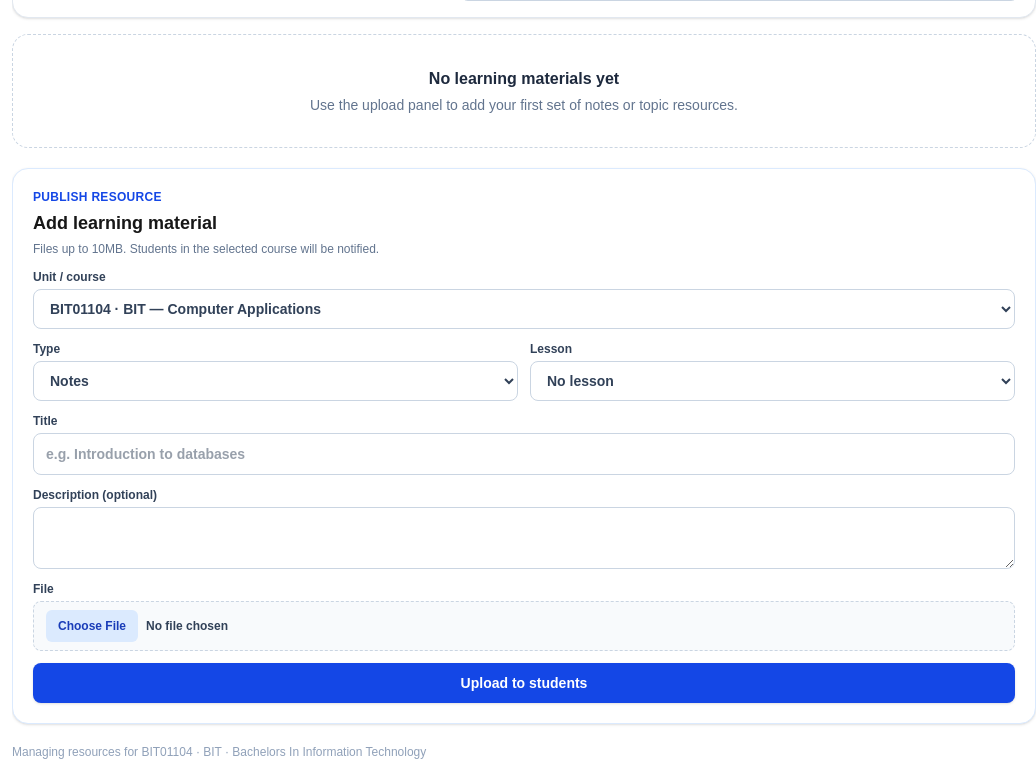
it: lecturer materials management page › shows upload validation errors as an alert toast
The image size is (1036, 760).
(page scrolled)
Expected: the heading "Add learning material" is shown, [33,213,217,233]
In the field labelled "Title": x=524, y=454 [33,433,1015,475], type "No file attached"
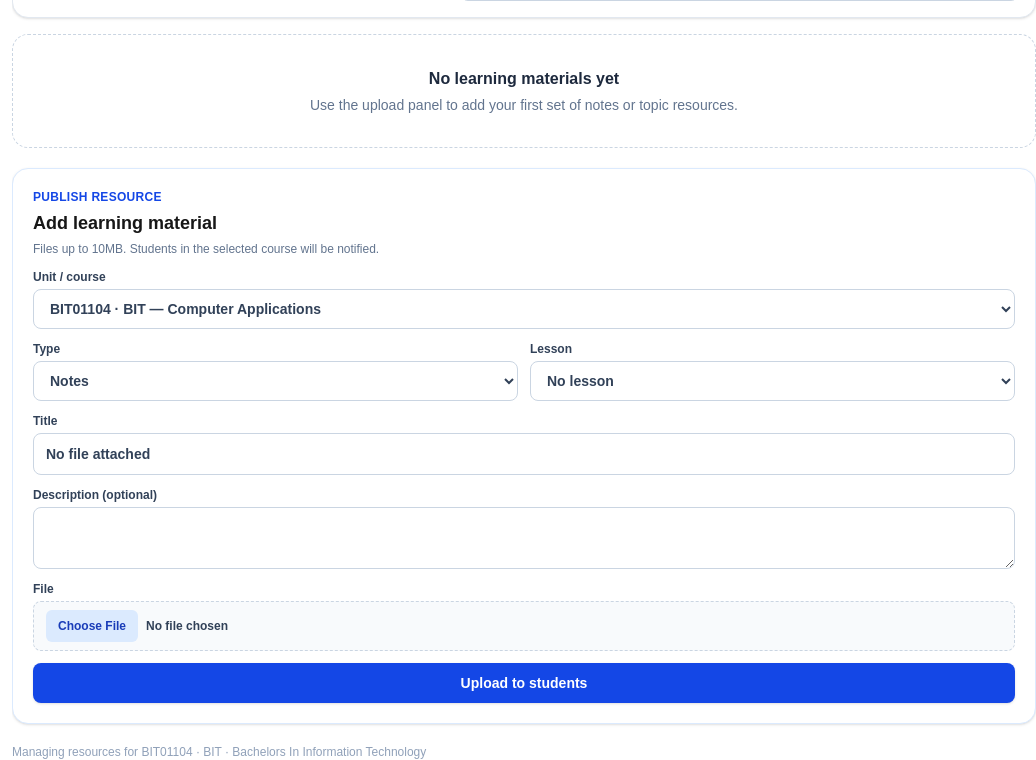
Click the button "Upload to students": x=524, y=683 [33,663,1015,703]
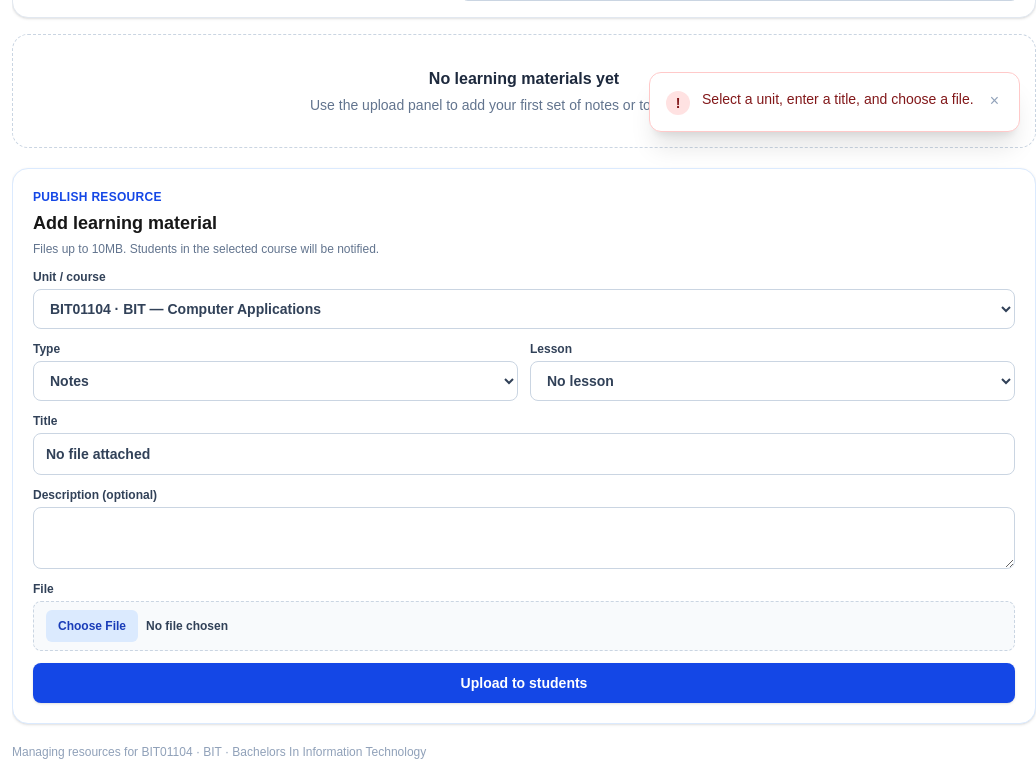
Expected: the message shows "Select a unit, enter a title, and choose a file.", [702,91,974,107]
